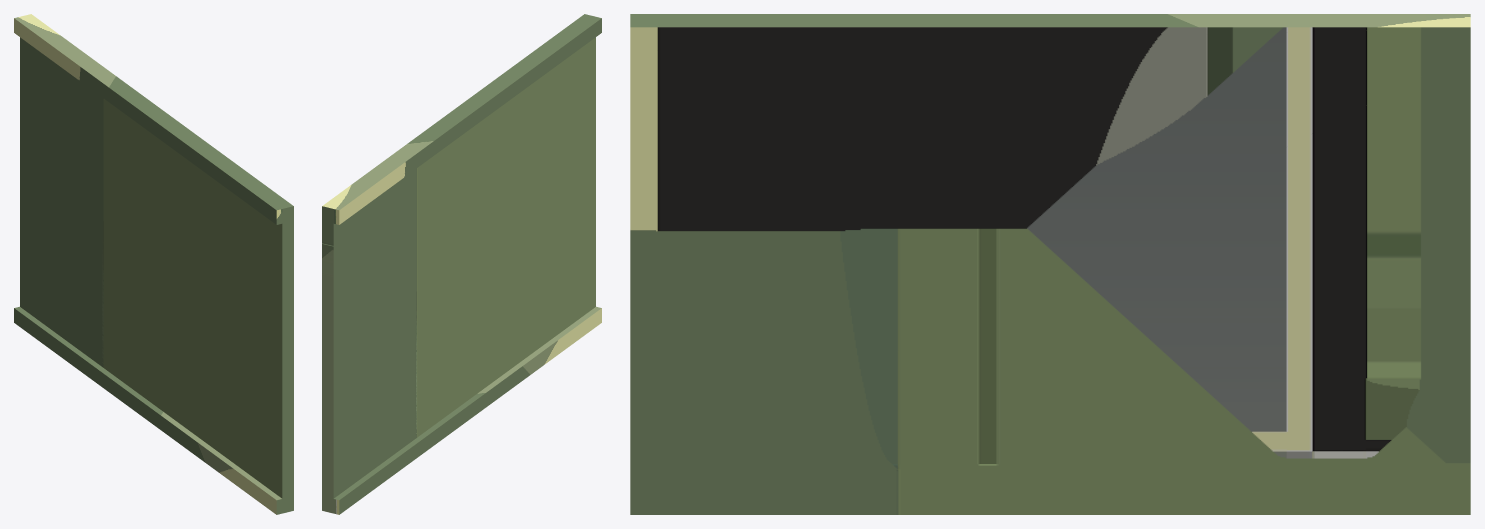
The model's file is Env_Outsidewall_Base_02 1.fbx.
3 views of the same model, side by side, from view 1: azimuth 30°, elevation 25°; view 2: azimuth 150°, elevation 25°; view 3: azimuth 270°, elevation 25° (orthographic). The views are drawn at different scales.
Parts seen in each view (by area): view 1: Env_Outsidewall_Base_02; view 2: Env_Outsidewall_Base_02; view 3: Env_Outsidewall_Base_02.
Boxes of the visible parts, left/top/right/bottom form: Env_Outsidewall_Base_02: left=14, top=14, right=293, bottom=514; Env_Outsidewall_Base_02: left=322, top=14, right=601, bottom=514; Env_Outsidewall_Base_02: left=630, top=14, right=1470, bottom=514.
Size of the model in its own units: 40.5 by 686 by 1071.
